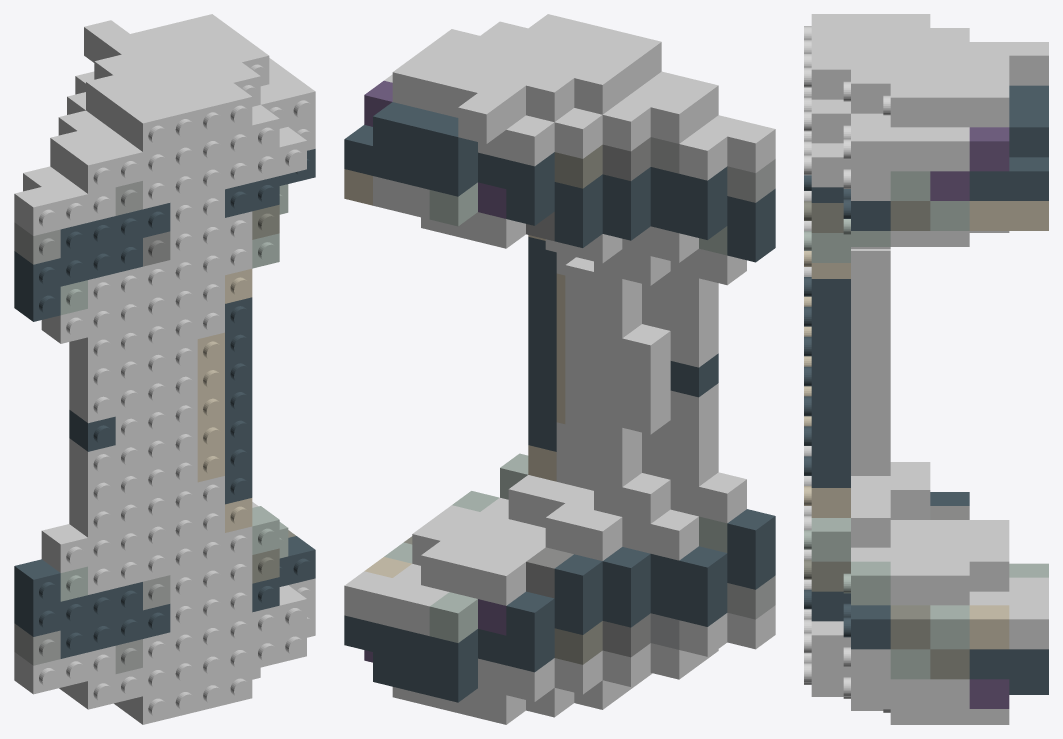
The model's file is full.glb.
3 views of the same model, side by side, from view 1: azimuth 30°, elevation 25°; view 2: azimuth 150°, elevation 25°; view 3: azimuth 270°, elevation 25° (orthographic). The views are drawn at different scales.
Parts seen in each view (by area): view 1: world; view 2: world; view 3: world.
Boxes of the visible parts, <box> form: world: <box>14,14,315,724</box>; world: <box>344,14,775,724</box>; world: <box>804,14,1048,724</box>.
Size of the model in its own units: 88 by 168 by 59.4.
